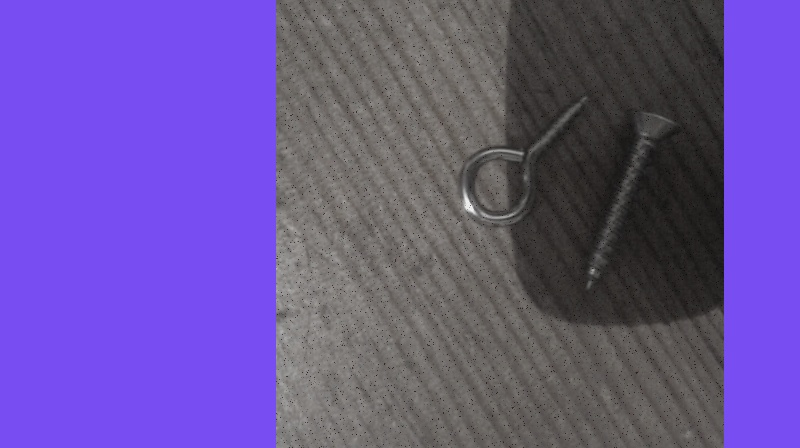O001: (458, 92, 593, 226)
S001: (583, 106, 683, 291)
